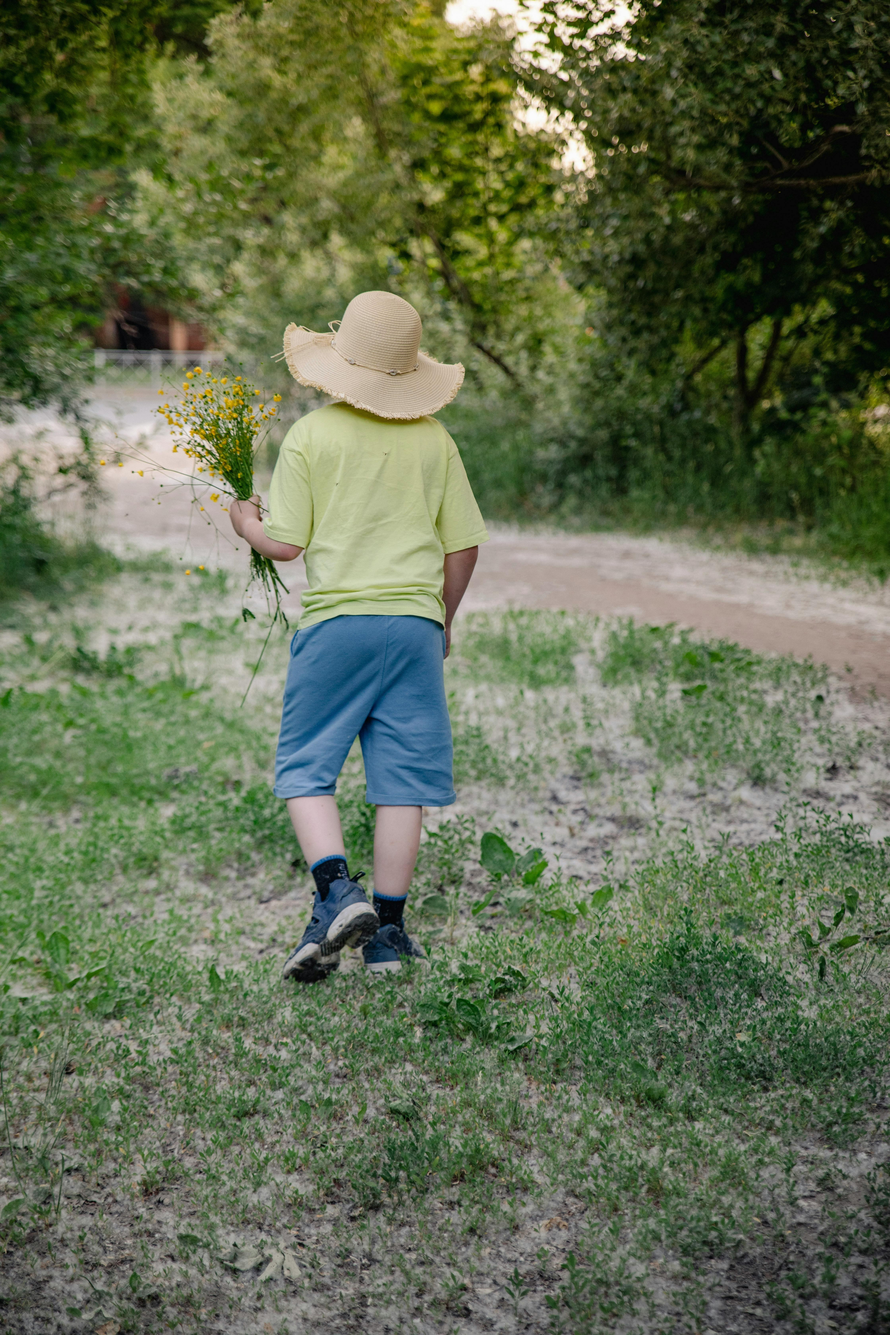Human: (215, 269, 474, 978)
